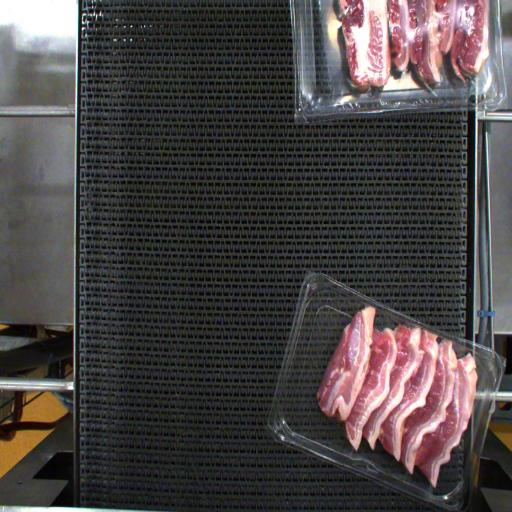packaging-error: (406, 318, 465, 348), (359, 296, 385, 322)
